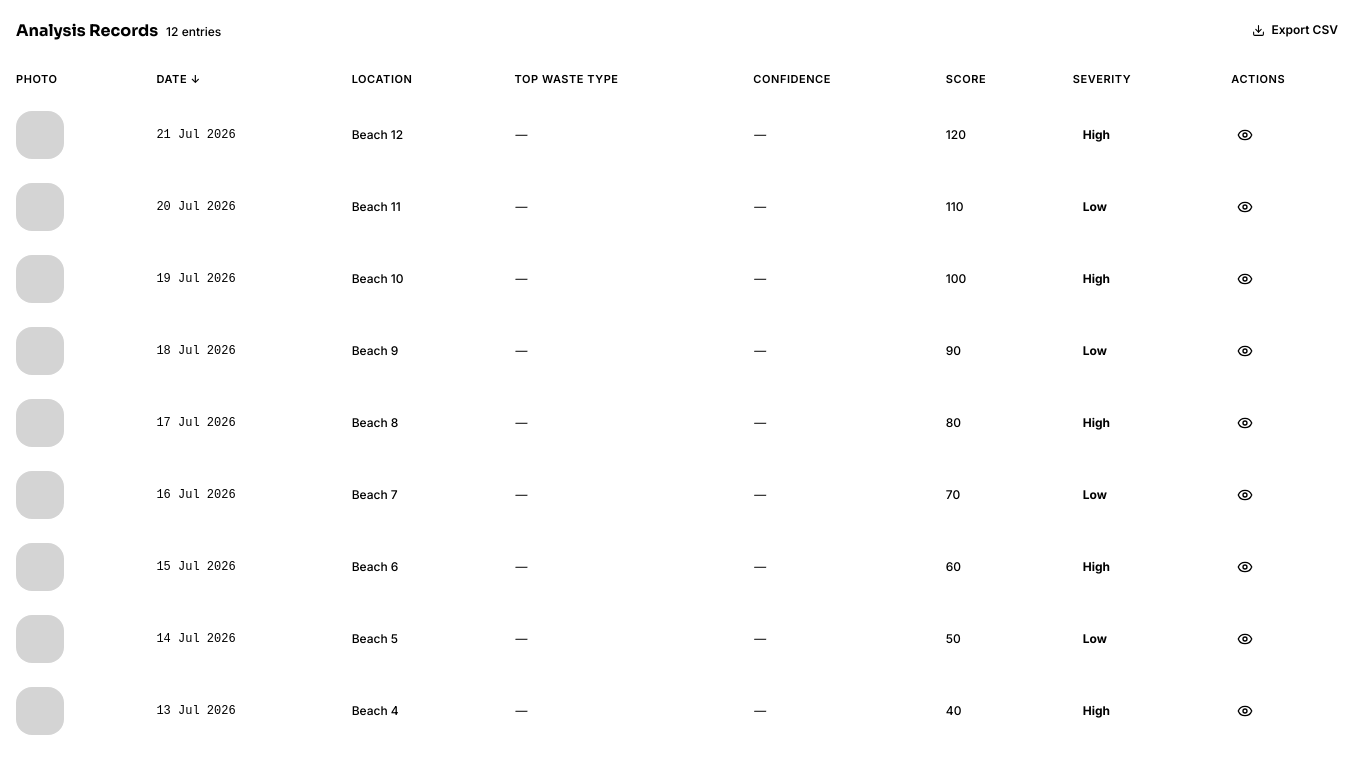
Test: HistoryTable — sorting › toggles score sort when Score header is clicked
Step 1. Click the column heading "Score" → (966, 79), box [930,60,1057,99]
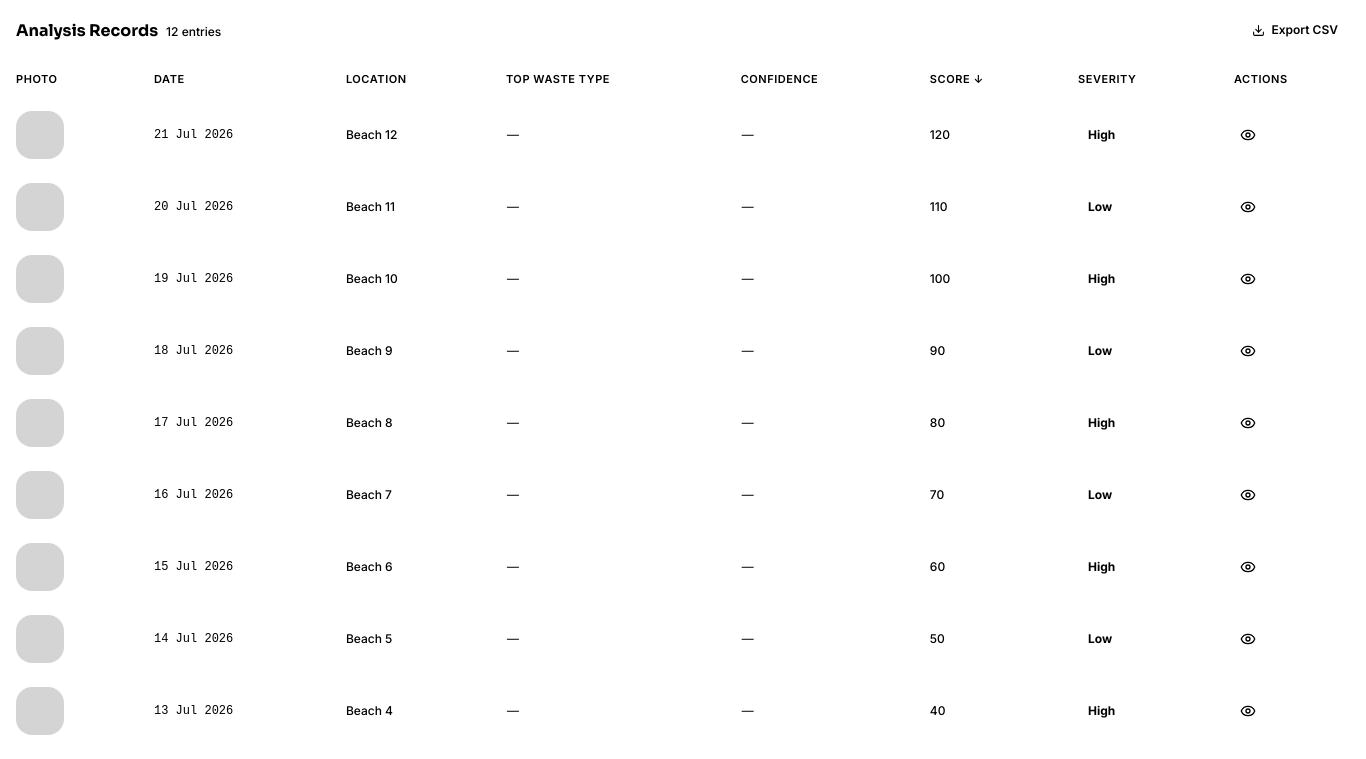
Expected: the text "120" is shown, [914,99,1062,171]
Step 2. Click the column heading "Score ↓" → (950, 79), box [914,60,1062,99]
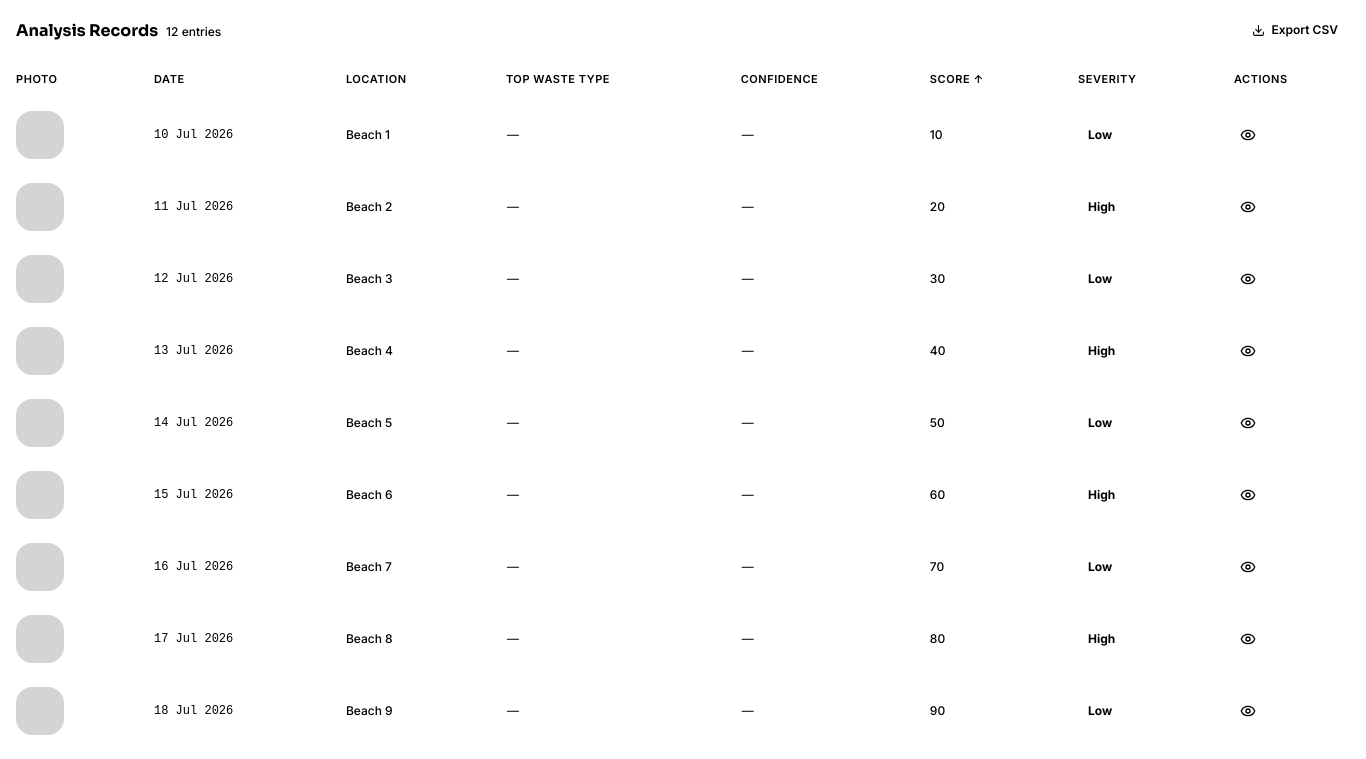
Now the text "10" is shown, box [914,99,1062,171]
